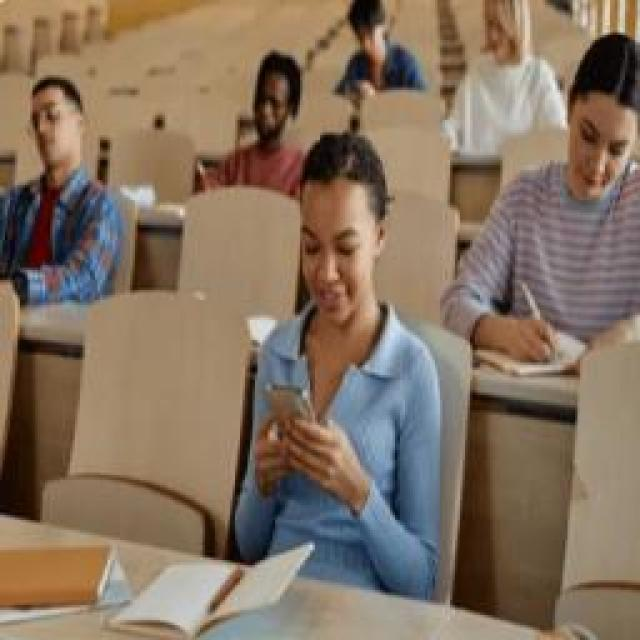phone: (232, 132, 438, 602), (335, 0, 425, 105)
study: (445, 30, 640, 370), (195, 50, 303, 200)
